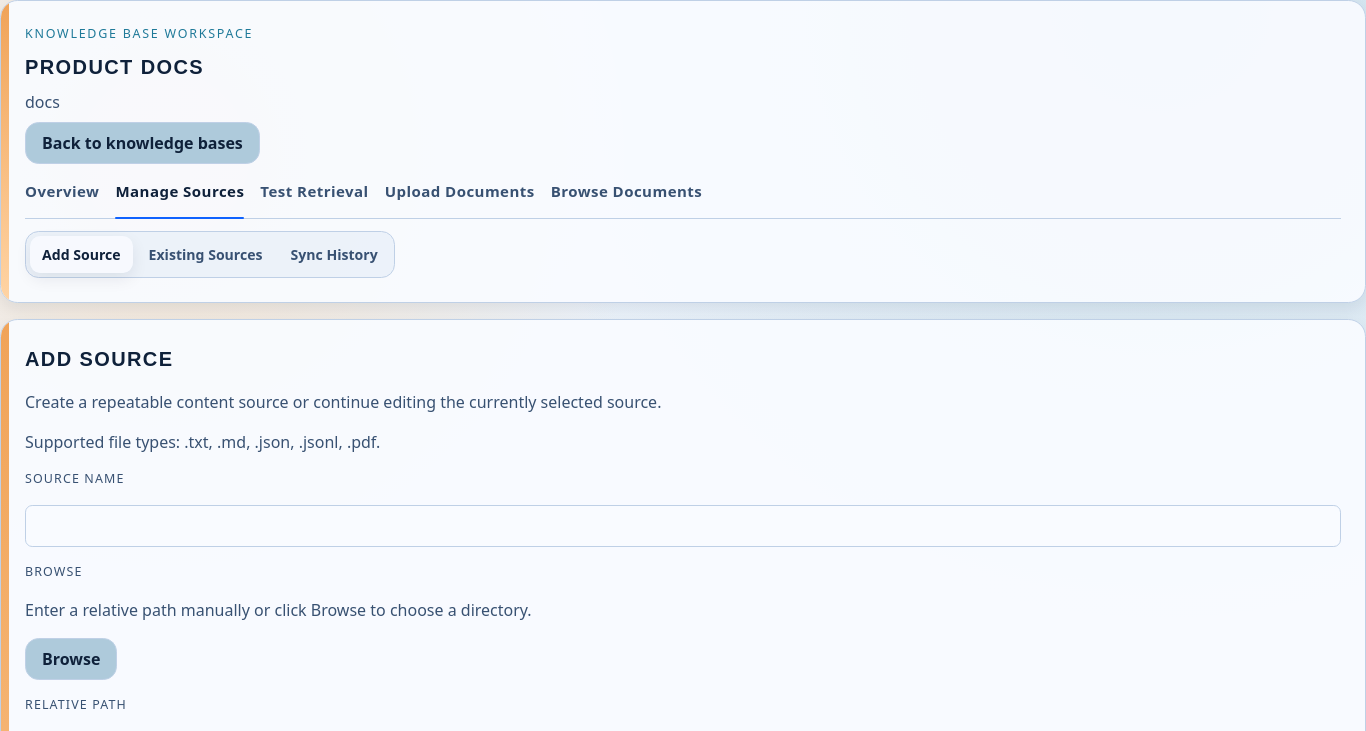
Test: ContextKnowledgeBaseWorkspace pages › shows the backend sync failure message when source sync is rejected
Expected: the heading "Add source" is shown, x1=25 y1=348 x2=174 y2=370
Click the button "Existing Sources".
click(206, 255)  # box x1=137 y1=236 x2=274 y2=273
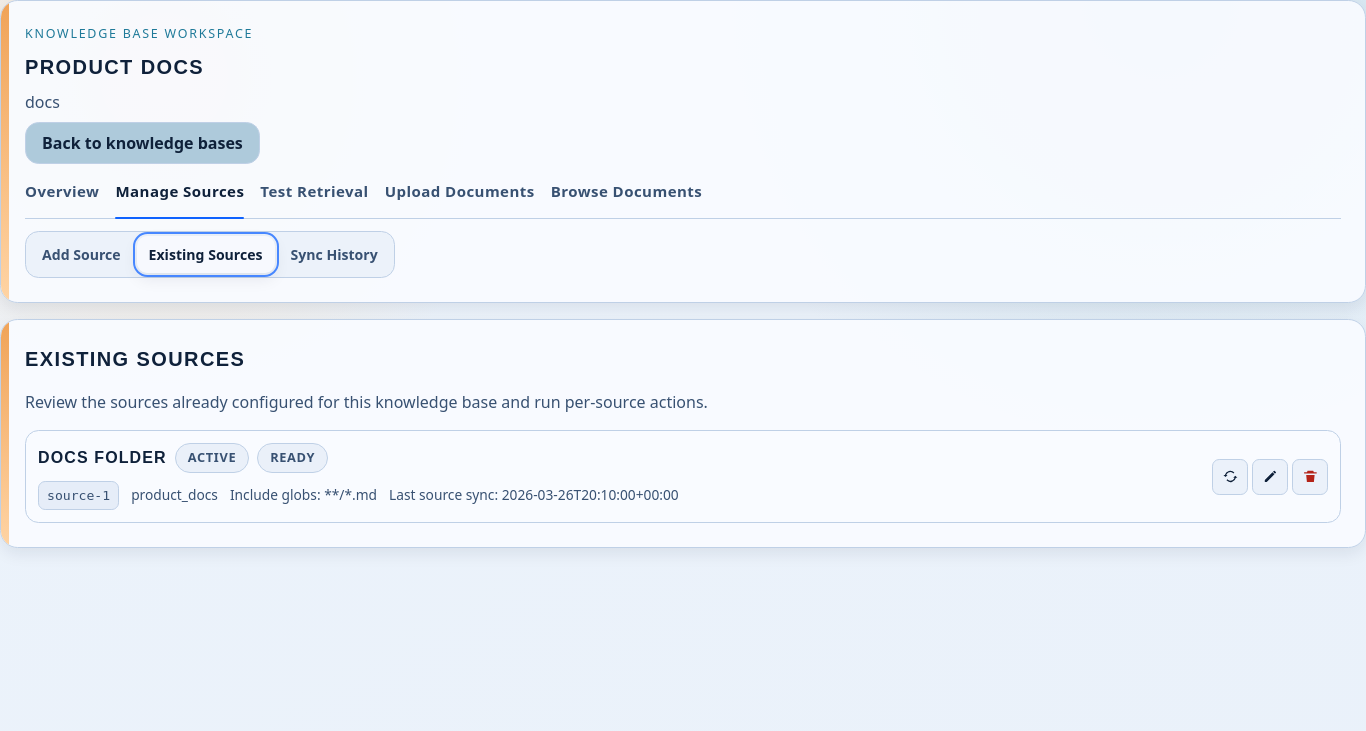
Click the button named "Sync Docs folder".
click(1230, 477)  # box x1=1212 y1=459 x2=1248 y2=495
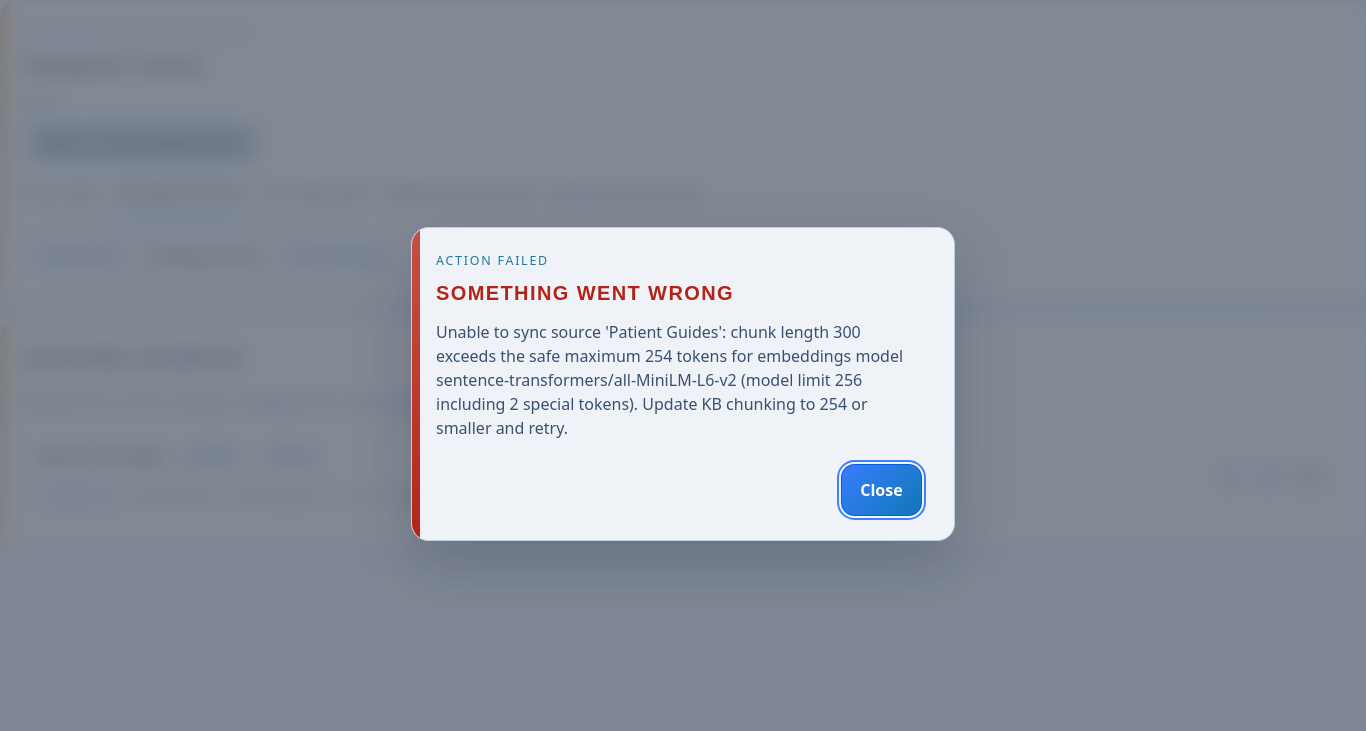
Now the text "chunk length 300 exceeds the safe maximum 254 tokens" is shown, box x1=436 y1=321 x2=903 y2=439
